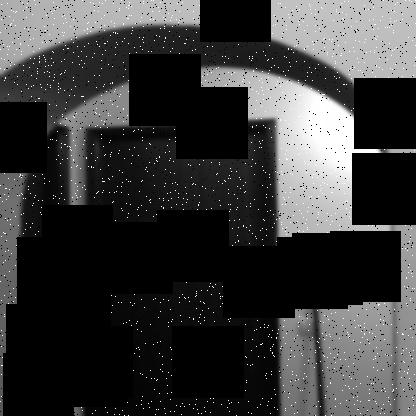Porte: (79, 117, 285, 415)
